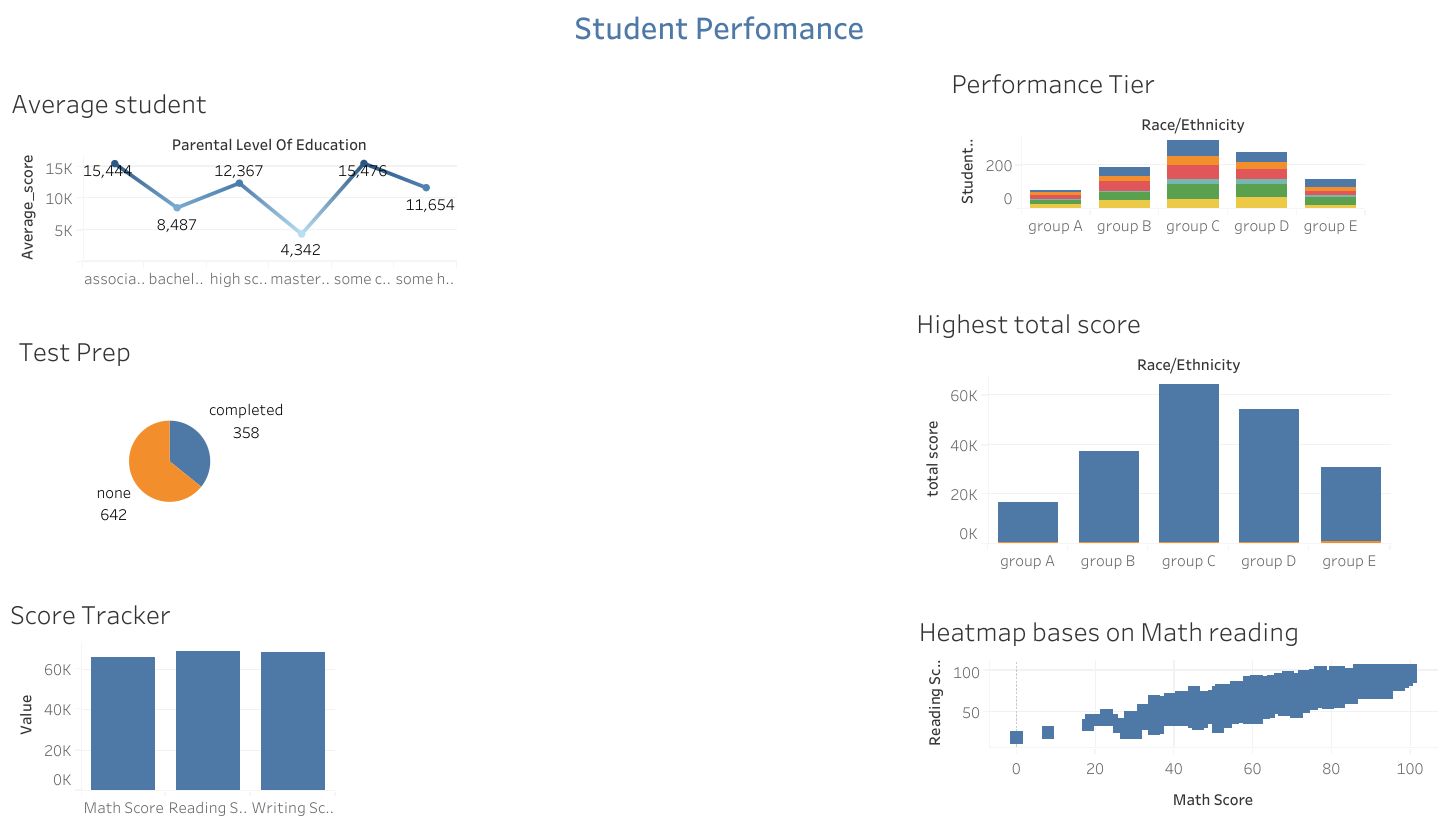

The dashboard page shown, as its layout file describes it:
{"tool":"tableau","page":{"name":"Student Perfomance","canvas":[1000,1000],"units":"permille","ordinal":0},"visuals":[{"type":"title","box":[0,0,1000,56.9]},{"type":"worksheet","title":"Performance Tier","mark":"Automatic","rows":["Calculation_161848165592420352"],"cols":["race/ethnicity"],"box":[657.8,69.7,290.9,226.5]},{"type":"worksheet","title":"Average student","mark":"Line","rows":["Calculation_161848165592563713"],"cols":["parental level of education"],"box":[4.2,95.2,313.2,275.3]},{"type":"worksheet","title":"Highest total score","mark":"Automatic","rows":["Calculation_161848165593190402"],"cols":["race/ethnicity"],"box":[633.1,363.5,333.1,333.3]},{"type":"worksheet","title":"Test Prep","mark":"Pie","box":[9.7,398.4,216.1,262.5]},{"type":"worksheet","title":"Score Tracker","mark":"Automatic","box":[3.6,717.8,229.3,278.8]},{"type":"worksheet","title":"Heatmap bases on Math reading","mark":"Square","rows":["reading score"],"cols":["math score"],"box":[634.9,738.7,363.9,260.2]}]}

Visuals, with their boxes on the dashboard's canvas, which has no fixed pixel size, in thousandths of its width and height (x1, y1, x2, y2). These are canvas units, not pixel positions in the 1438x819 screenshot, which may show the page scaled, cropped or inside an application window:
title: (0, 0, 1000, 57)
"Performance Tier" worksheet: (658, 70, 949, 296)
"Average student" worksheet (Line marks): (4, 95, 317, 370)
"Highest total score" worksheet: (633, 364, 966, 697)
"Test Prep" worksheet (Pie marks): (10, 398, 226, 661)
"Score Tracker" worksheet: (4, 718, 233, 997)
"Heatmap bases on Math reading" worksheet (Square marks): (635, 739, 999, 999)
